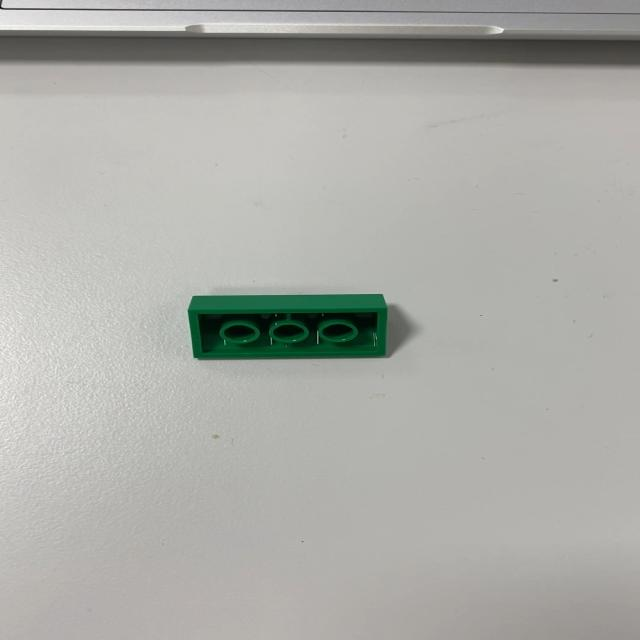P4x2x1: (187, 294, 390, 361)
